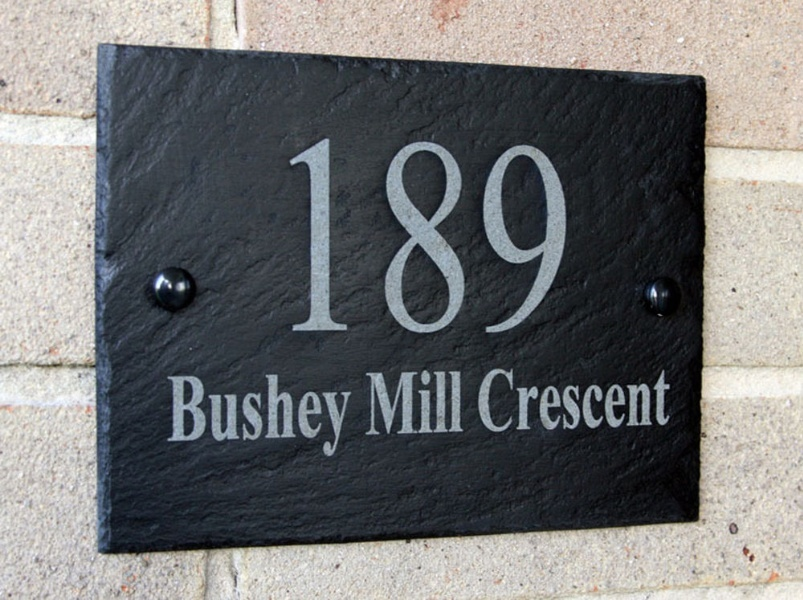text: (289, 135, 304, 334), (305, 135, 320, 334), (321, 135, 336, 334), (337, 135, 352, 334), (353, 135, 368, 334), (369, 135, 384, 334), (385, 135, 400, 334), (401, 135, 416, 334), (417, 135, 432, 334), (433, 135, 448, 334), (449, 135, 464, 334), (465, 135, 480, 334), (481, 135, 496, 334), (497, 135, 512, 334), (513, 135, 528, 334), (529, 135, 544, 334), (545, 135, 560, 334), (561, 135, 571, 334), (337, 371, 353, 460), (177, 371, 192, 460), (193, 371, 208, 460), (209, 371, 224, 460), (225, 371, 240, 460), (241, 371, 256, 460), (257, 371, 272, 460), (273, 371, 288, 460), (289, 371, 304, 460), (305, 371, 320, 460), (321, 371, 336, 460), (449, 369, 465, 439), (657, 367, 673, 436), (369, 369, 384, 439), (385, 369, 400, 439), (401, 369, 416, 439), (417, 369, 432, 439), (433, 369, 448, 439), (481, 367, 496, 436), (497, 367, 512, 436), (513, 367, 528, 436), (529, 367, 544, 436), (545, 367, 560, 436), (561, 367, 576, 436), (577, 367, 592, 436), (593, 367, 608, 436), (609, 367, 624, 436), (625, 367, 640, 436), (641, 367, 656, 436), (165, 371, 176, 460), (363, 369, 368, 439), (476, 367, 480, 436)
